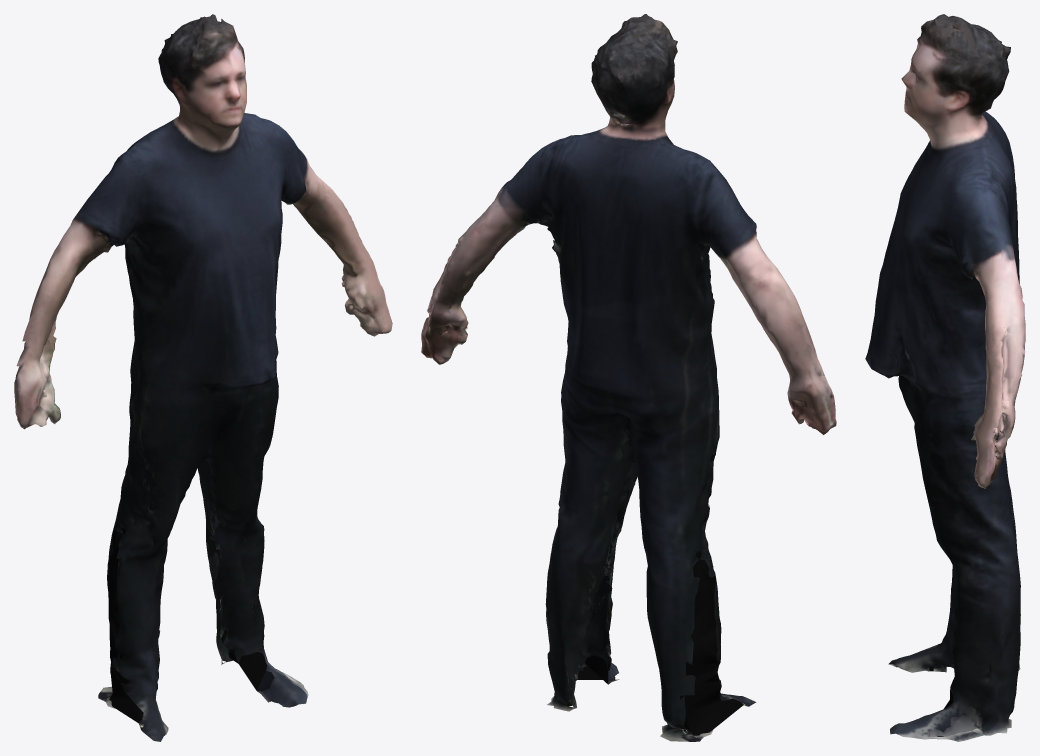
Rendered from structureScan.obj.
The picture shows the model from 3 angles, left to right: view 1: azimuth 30°, elevation 25°; view 2: azimuth 150°, elevation 25°; view 3: azimuth 270°, elevation 25°; orthographic projection.
Visible parts, largest first — view 1: MeshMixerOBJ_MeshMixerOBJ_material0, MeshMixerOBJ_MeshMixerOBJ_GeneratedMat1, MeshMixerOBJ_MeshMixerOBJ_pants; view 2: MeshMixerOBJ_MeshMixerOBJ_material0, MeshMixerOBJ_MeshMixerOBJ_pants, MeshMixerOBJ_MeshMixerOBJ_GeneratedMat1; view 3: MeshMixerOBJ_MeshMixerOBJ_material0, MeshMixerOBJ_MeshMixerOBJ_GeneratedMat1.
Part boxes in pixels (bbox=[...]): MeshMixerOBJ_MeshMixerOBJ_material0: bbox=[14, 19, 392, 741]; MeshMixerOBJ_MeshMixerOBJ_GeneratedMat1: bbox=[49, 14, 295, 683]; MeshMixerOBJ_MeshMixerOBJ_pants: bbox=[108, 530, 267, 722]; MeshMixerOBJ_MeshMixerOBJ_material0: bbox=[421, 20, 836, 741]; MeshMixerOBJ_MeshMixerOBJ_pants: bbox=[584, 558, 742, 735]; MeshMixerOBJ_MeshMixerOBJ_GeneratedMat1: bbox=[547, 14, 804, 680]; MeshMixerOBJ_MeshMixerOBJ_material0: bbox=[865, 19, 1025, 741]; MeshMixerOBJ_MeshMixerOBJ_GeneratedMat1: bbox=[903, 14, 1001, 736].
Bounding box in the file's own units: 2.21 × 3.65 × 0.7734.
